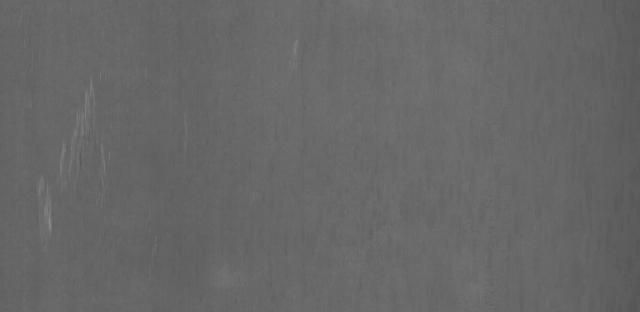silk_spot: (22, 68, 162, 248)
